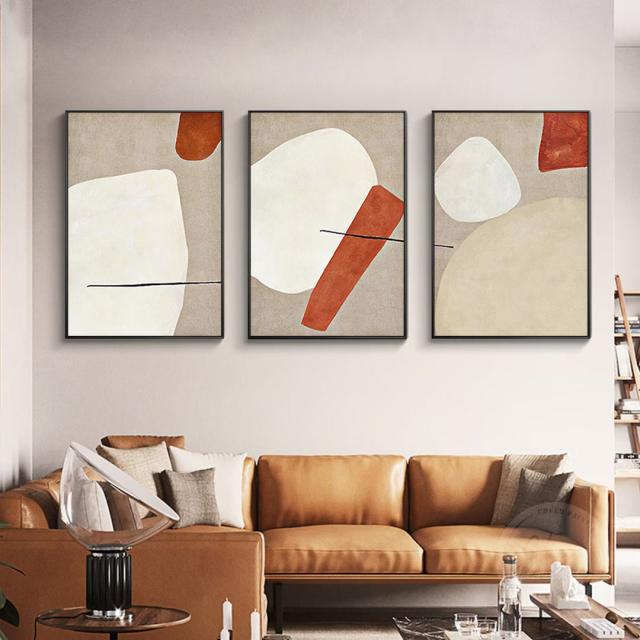painting: (66, 110, 223, 336), (249, 109, 406, 335), (432, 109, 589, 335)
